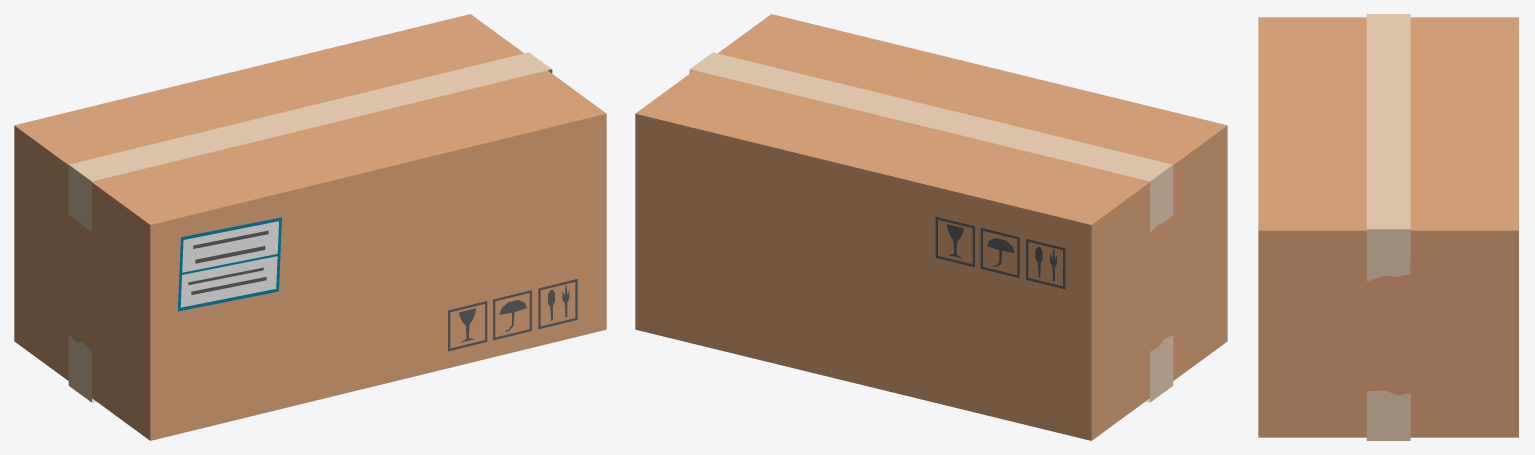
The model's file is SM_Boxes_06.fbx.
3 views of the same model, side by side, from view 1: azimuth 30°, elevation 25°; view 2: azimuth 150°, elevation 25°; view 3: azimuth 270°, elevation 25° (orthographic). The views are drawn at different scales.
Visible parts, largest first — view 1: SM_Boxes_06; view 2: SM_Boxes_06; view 3: SM_Boxes_06.
Boxes of the visible parts, box(x1,y1,x2,y2) form: SM_Boxes_06: box(14, 14, 606, 440); SM_Boxes_06: box(635, 14, 1227, 440); SM_Boxes_06: box(1258, 14, 1518, 440).
Bounding box in the file's own units: 27.54 × 12.64 × 14.33.
